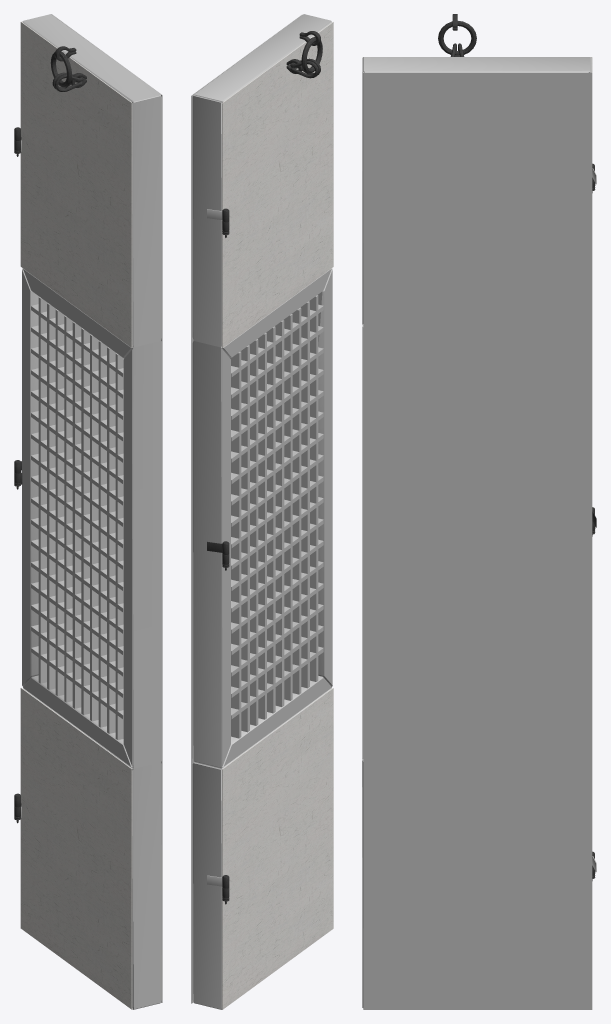
The model's file is SM_SJJ_HG_Door02B_04.fbx.
The picture shows the model from 3 angles, left to right: view 1: azimuth 30°, elevation 25°; view 2: azimuth 150°, elevation 25°; view 3: azimuth 270°, elevation 25°; orthographic projection. The views are drawn at different scales.
Visible parts, largest first — view 1: SM_SJJ_HG_Door02B_04; view 2: SM_SJJ_HG_Door02B_04; view 3: SM_SJJ_HG_Door02B_04.
Part boxes in pixels (x1,y1,x2,y2): SM_SJJ_HG_Door02B_04: (14,14,162,1009); SM_SJJ_HG_Door02B_04: (191,14,333,1009); SM_SJJ_HG_Door02B_04: (362,14,596,1009).
Bounding box in the file's own units: 16.26 × 50.68 × 231.
